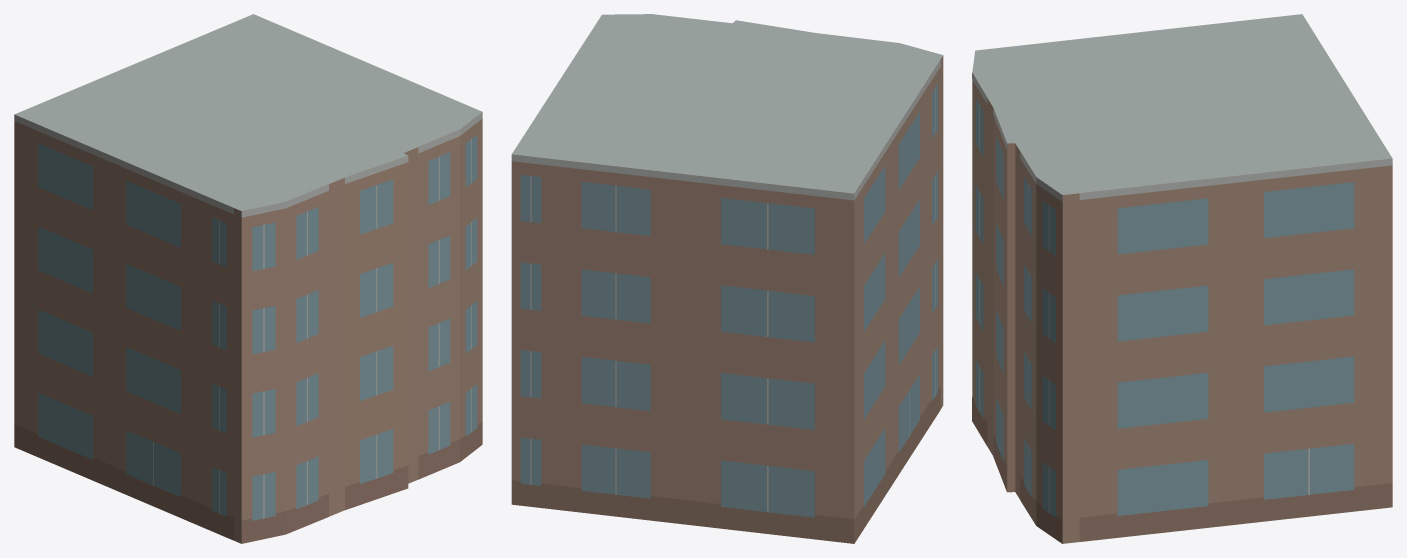
The model's file is survey-upis-32564228.glb.
The picture shows the model from 3 angles, left to right: view 1: azimuth 30°, elevation 25°; view 2: azimuth 150°, elevation 25°; view 3: azimuth 270°, elevation 25°; orthographic projection. The views are drawn at different scales.
Visible parts, largest first — view 1: survey-upis-32564228.tmp; view 2: survey-upis-32564228.tmp; view 3: survey-upis-32564228.tmp.
Boxes of the visible parts, left/top/right/bottom form: survey-upis-32564228.tmp: left=14, top=14, right=482, bottom=543; survey-upis-32564228.tmp: left=511, top=14, right=943, bottom=543; survey-upis-32564228.tmp: left=972, top=14, right=1392, bottom=543.
Size of the model in its own units: 13.82 by 12.4 by 13.56.
